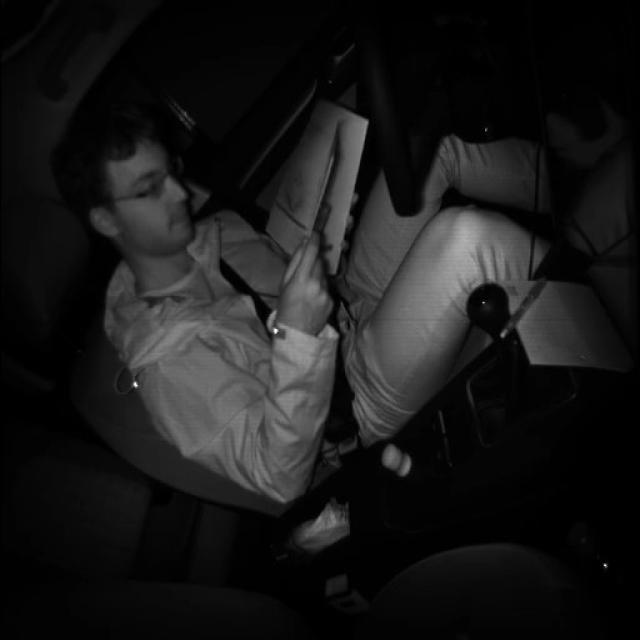pen: (498, 277, 548, 339)
